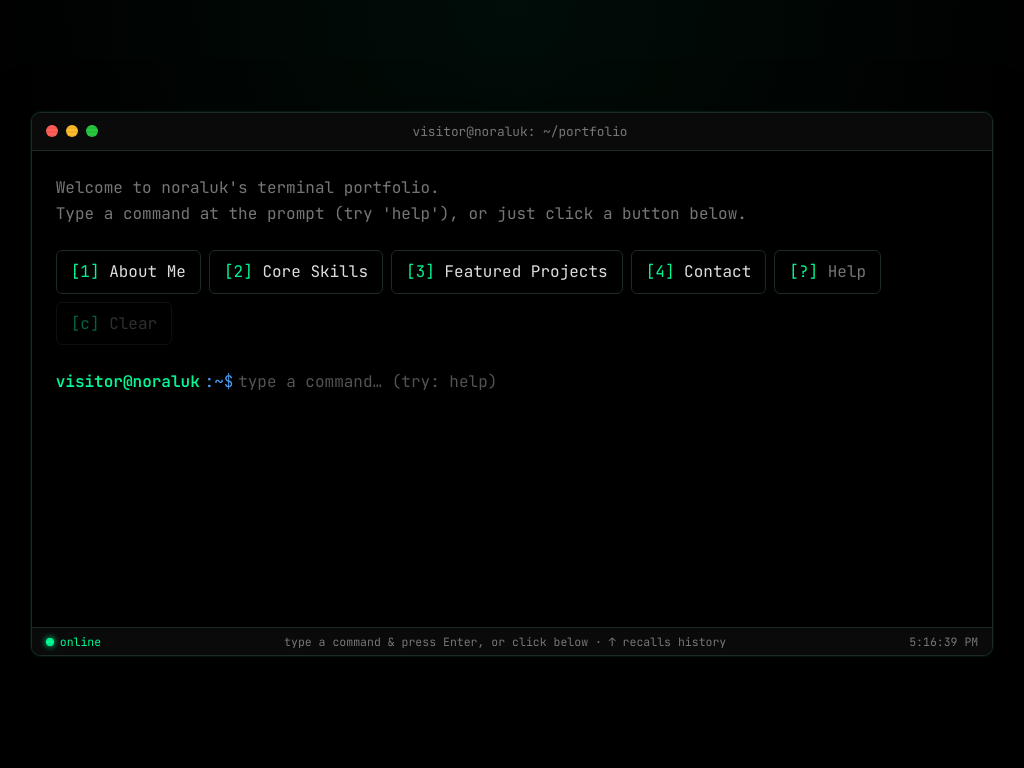
Test case: Terminal (reduced motion) › runs a command typed at the prompt
This screenshot has width=1024, height=768.
In the field: (603, 382) [238,369,968,395], type "contact"
Then press Enter
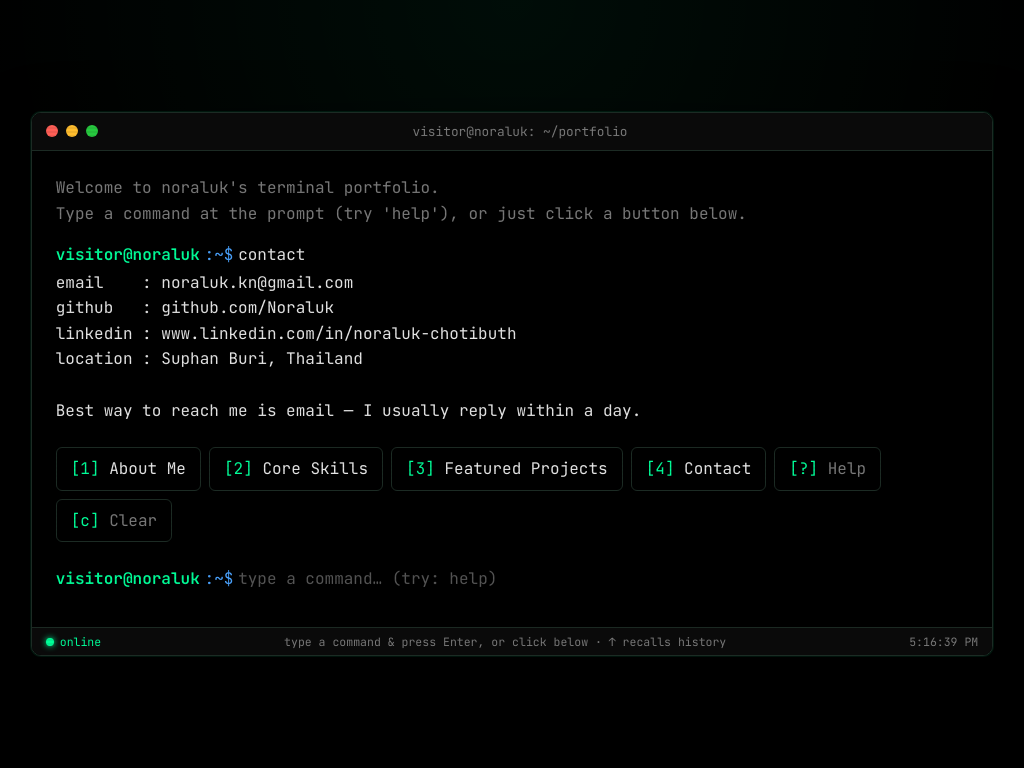
Now the text "noraluk.kn@gmail.com" is shown, box [56,272,641,421]
